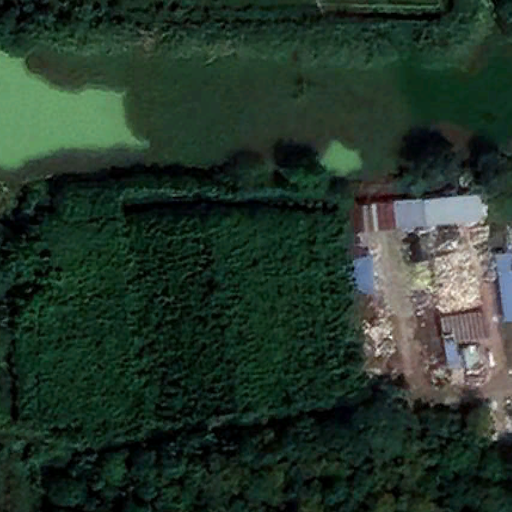msw: (411, 251, 483, 313)
